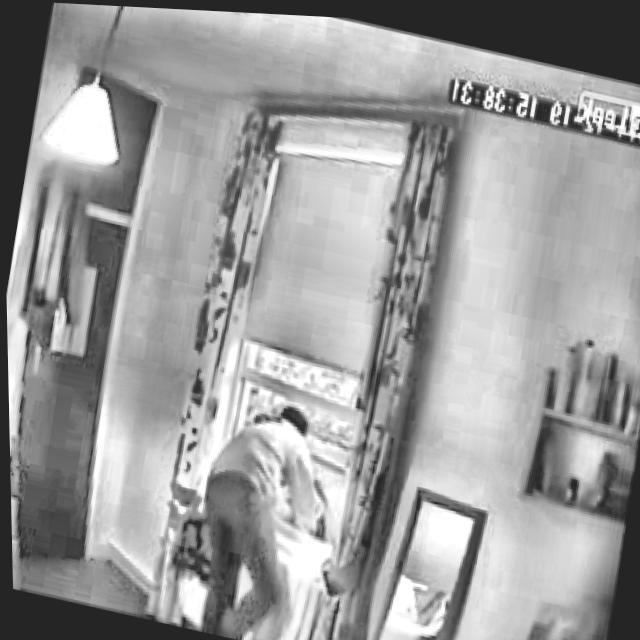burglary: (166, 321, 373, 640)
